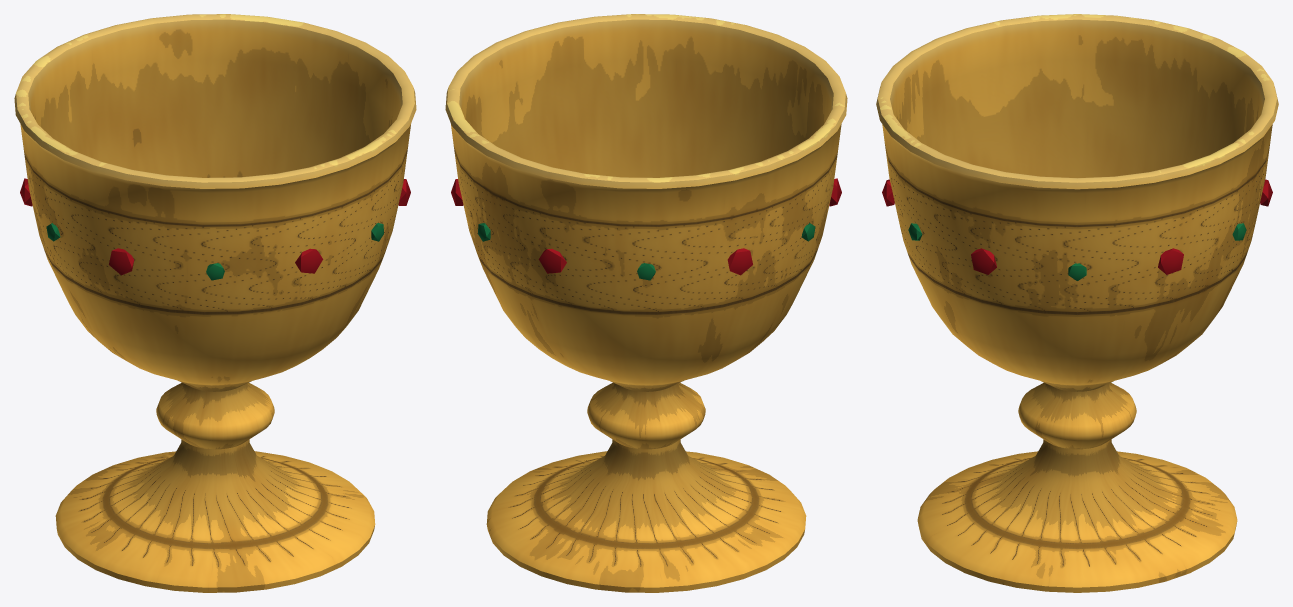
File: Cup_Goblet.fbx
The picture shows the model from 3 angles, left to right: view 1: azimuth 30°, elevation 25°; view 2: azimuth 150°, elevation 25°; view 3: azimuth 270°, elevation 25°; orthographic projection.
Visible parts, largest first — view 1: Cup_Goblet; view 2: Cup_Goblet; view 3: Cup_Goblet.
Part boxes in pixels (bbox=[...]): Cup_Goblet: bbox=[14, 14, 416, 592]; Cup_Goblet: bbox=[445, 14, 847, 592]; Cup_Goblet: bbox=[876, 14, 1278, 592].
Size of the model in its own units: 0.76 by 0.9 by 0.76.
Materials: 1 (1 with a texture image).
